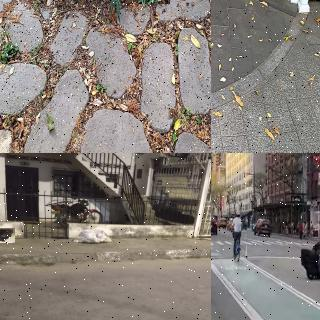Garbage: (69, 228, 116, 245), (0, 227, 14, 243)
